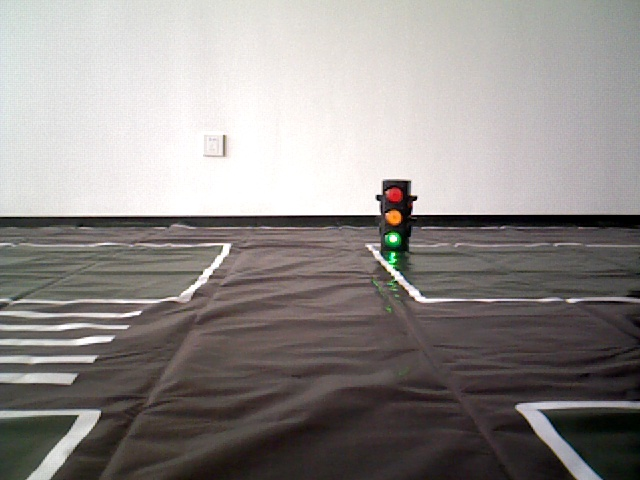green: (383, 181, 405, 246)
